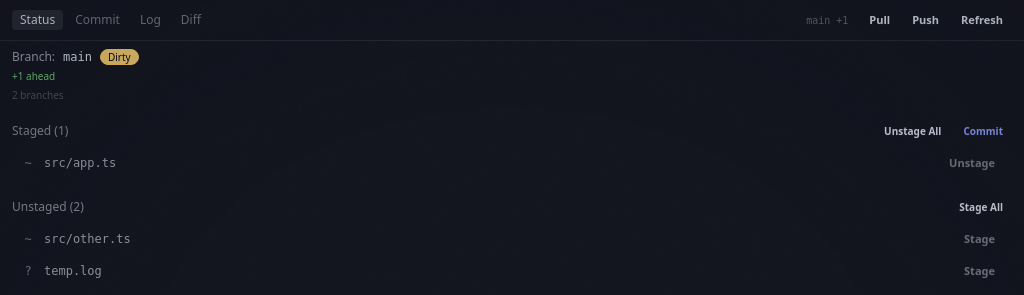
Test: GitTab › switches to log section
The width and height of the screenshot is (1024, 295).
Click the button with test id "git-section-log".
click(150, 20)  # box [132,10,169,30]
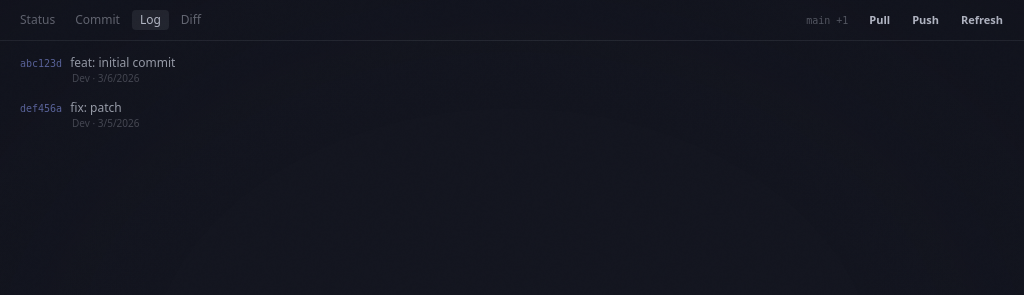
Check: the text "abc123d" is shown, box [20,56,62,70]
Check: the text "feat: initial commit" is shown, box [70,55,175,71]
Check: the text "fix: patch" is shown, box [70,100,122,116]
